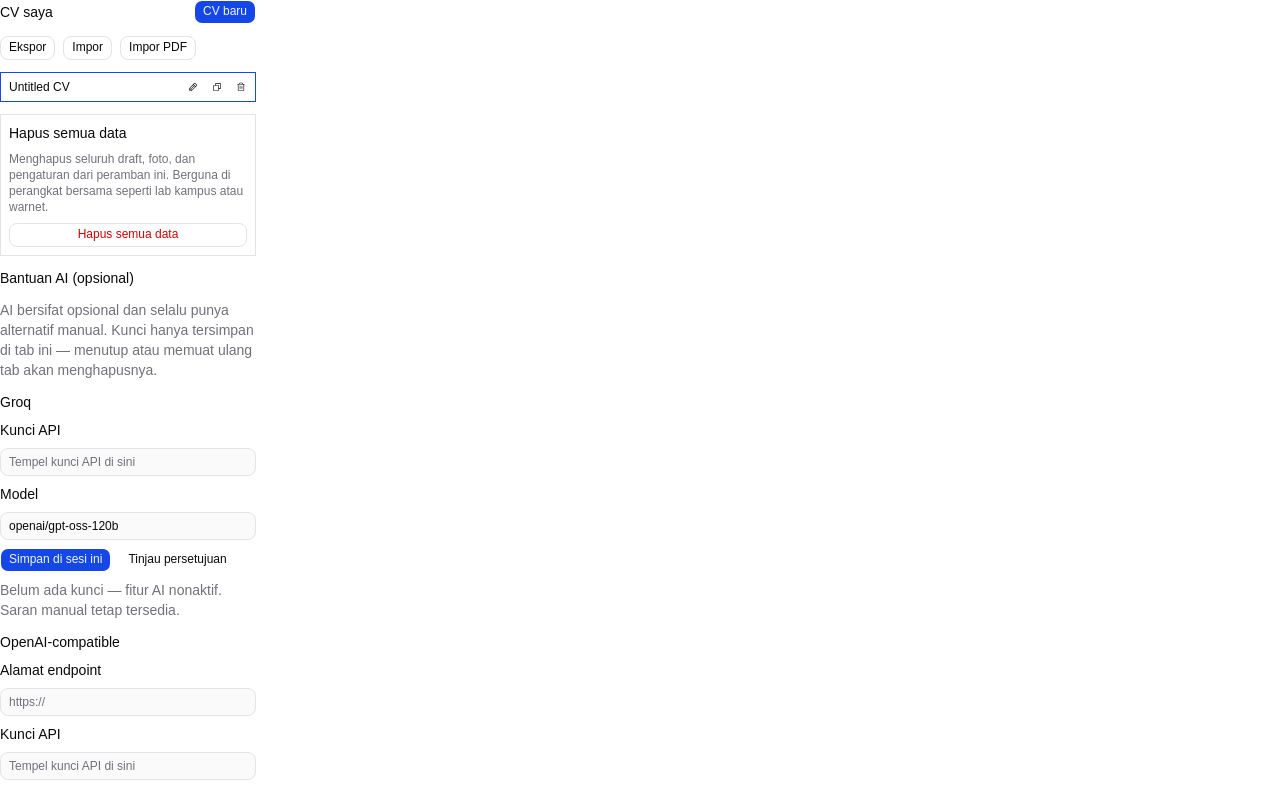
Test: DraftPanel lifecycle actions (D23, F-A3/F-A4) › renames a draft through the dialog
Click the button named "Ganti nama Untitled CV" at [193, 87], box x1=183 y1=77 x2=203 y2=97
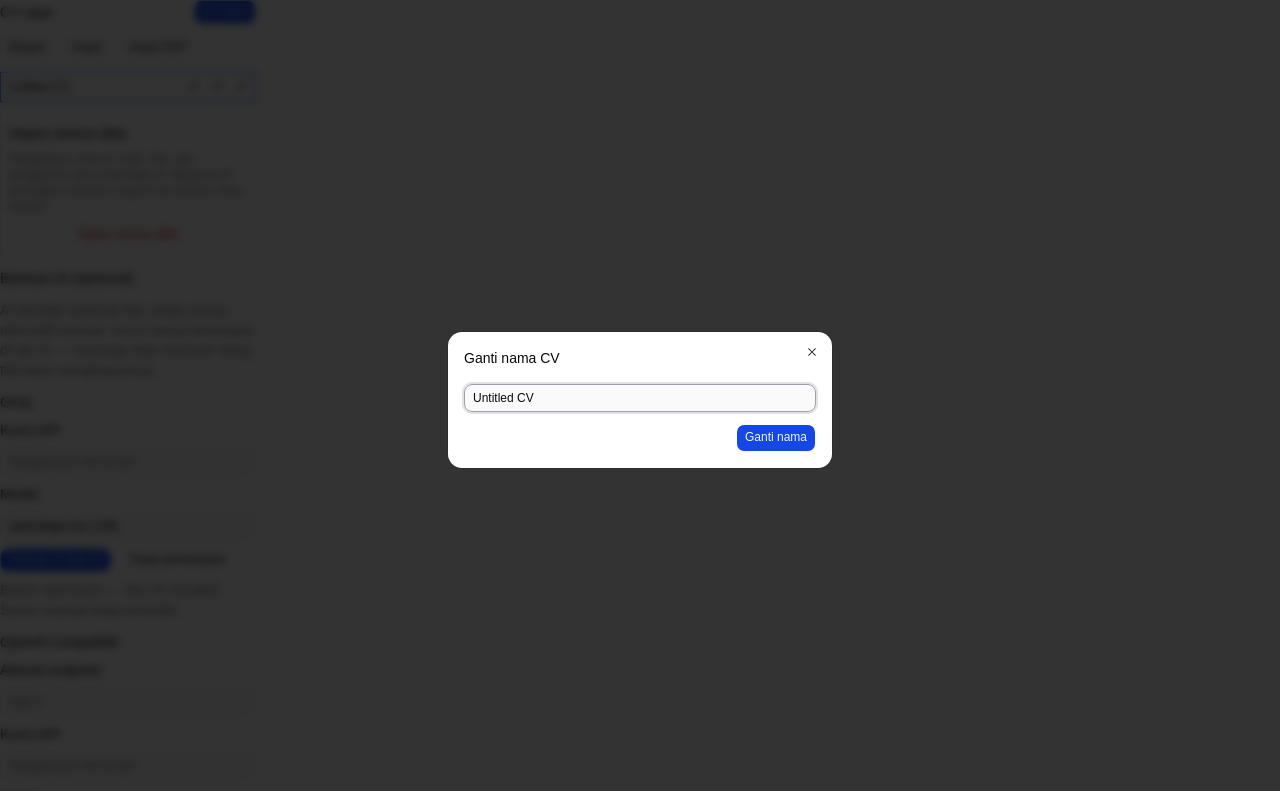
Replace the text in the field named "Ganti nama" with "CV Lamaran Toko" at [640, 398], box x1=464 y1=384 x2=816 y2=412
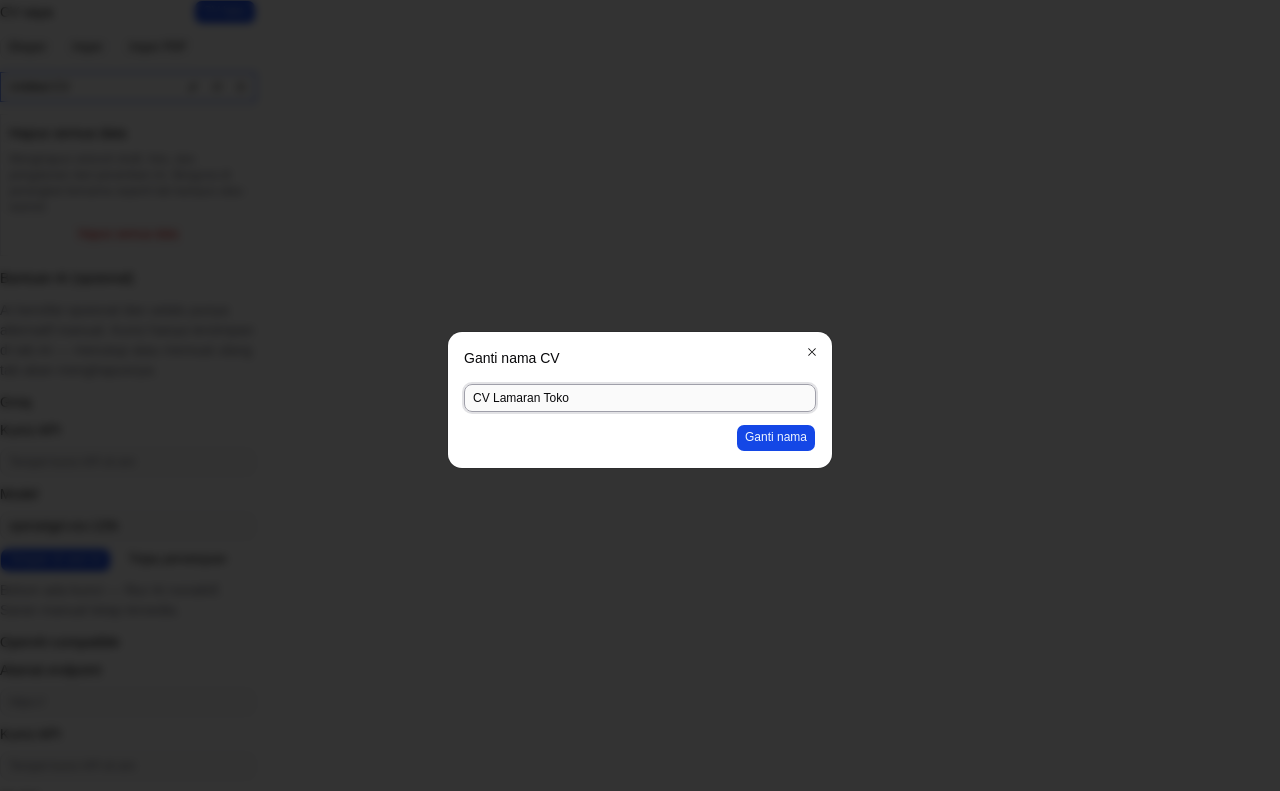
Click the button "Ganti nama" at [776, 438], box x1=736 y1=424 x2=816 y2=452
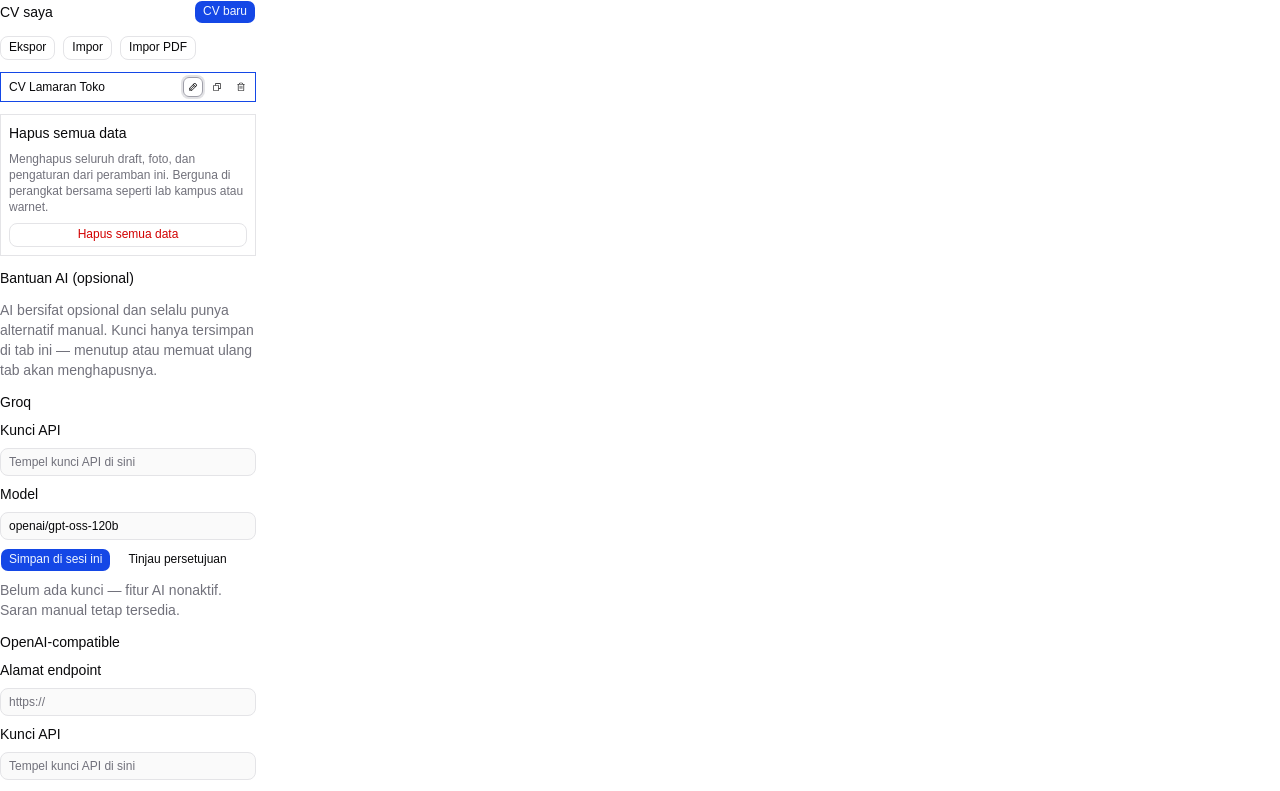
Expected: the button "CV Lamaran Toko" is shown, x1=5 y1=77 x2=179 y2=97
